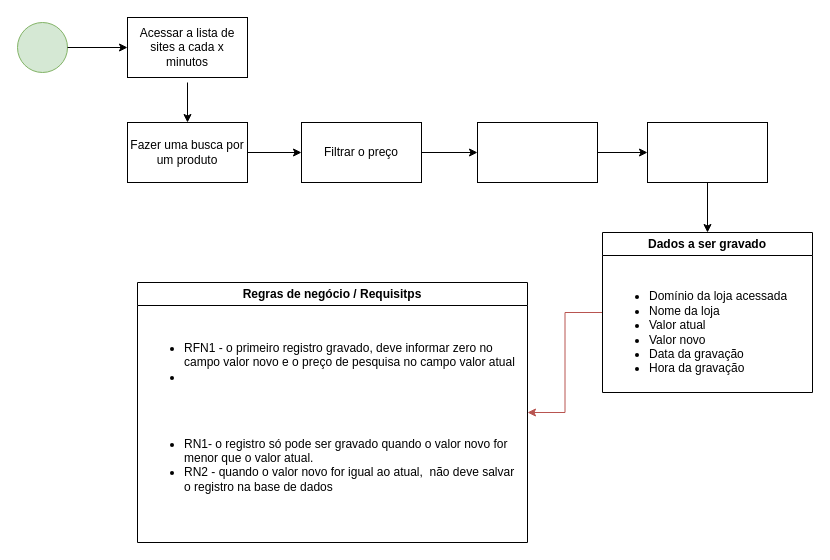
Some shapes in this 830 by 560 pixel diagram are drawn without their labels. The shapes that lost their labels are listed below. From the top down, each one's centre as x and y in pixels, then its label:
At (537,152): "Fazer a captura do preço".
At (707,152): "Salvar no banco de dados".
